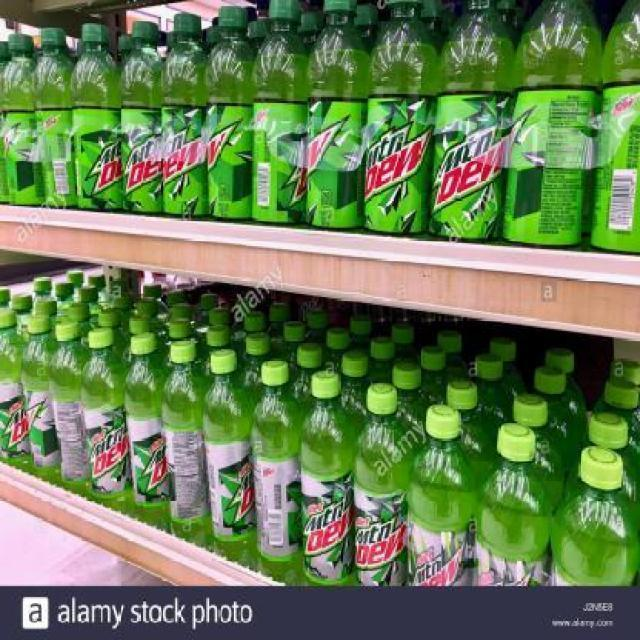Drinks: (502, 0, 604, 249), (439, 1, 516, 244), (364, 0, 437, 235), (306, 0, 370, 231), (409, 403, 476, 586), (253, 0, 307, 226), (301, 369, 356, 588), (357, 382, 412, 586), (251, 358, 302, 576), (202, 348, 253, 564), (207, 5, 256, 224), (69, 23, 120, 212), (161, 12, 207, 220), (119, 19, 164, 216), (161, 339, 208, 525), (79, 327, 130, 496), (124, 332, 172, 509), (33, 28, 76, 210), (1, 35, 41, 206), (49, 320, 90, 486), (21, 313, 60, 482), (0, 312, 31, 461)
